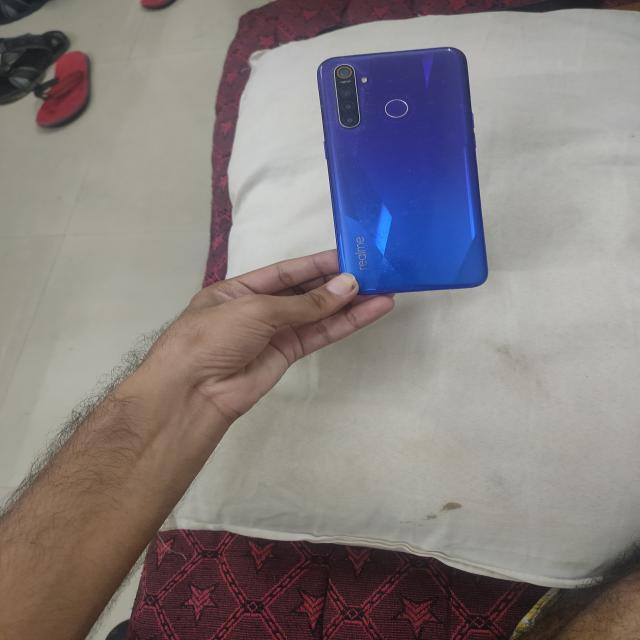Phone: (314, 48, 494, 296)
